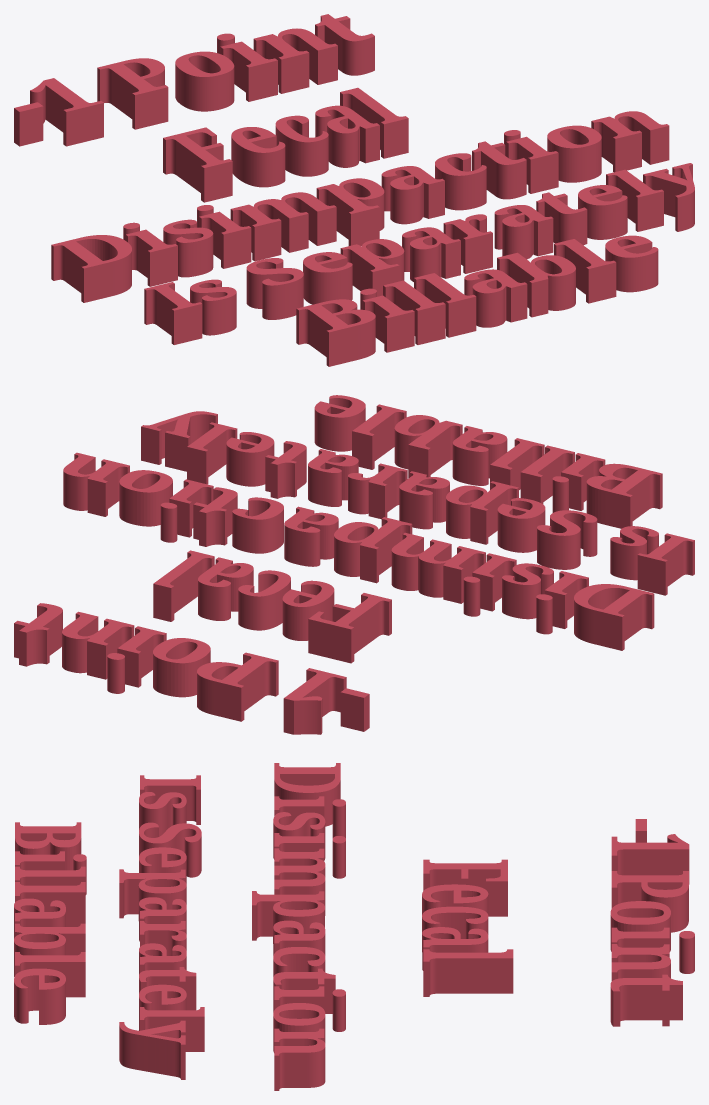
File: nefec.gltf
The picture shows the model from 3 angles, top to bottom: view 1: azimuth 30°, elevation 25°; view 2: azimuth 150°, elevation 25°; view 3: azimuth 270°, elevation 25°; orthographic projection. The views are drawn at different scales.
Visible parts, largest first — view 1: Mesh_Mesh_head_geo001_lambert2SG001; view 2: Mesh_Mesh_head_geo001_lambert2SG001; view 3: Mesh_Mesh_head_geo001_lambert2SG001.
Boxes of the visible parts, bbox=[...] form: Mesh_Mesh_head_geo001_lambert2SG001: bbox=[14, 14, 694, 366]; Mesh_Mesh_head_geo001_lambert2SG001: bbox=[14, 395, 694, 734]; Mesh_Mesh_head_geo001_lambert2SG001: bbox=[14, 763, 694, 1090].
Size of the model in its own units: 177 by 10 by 175.
